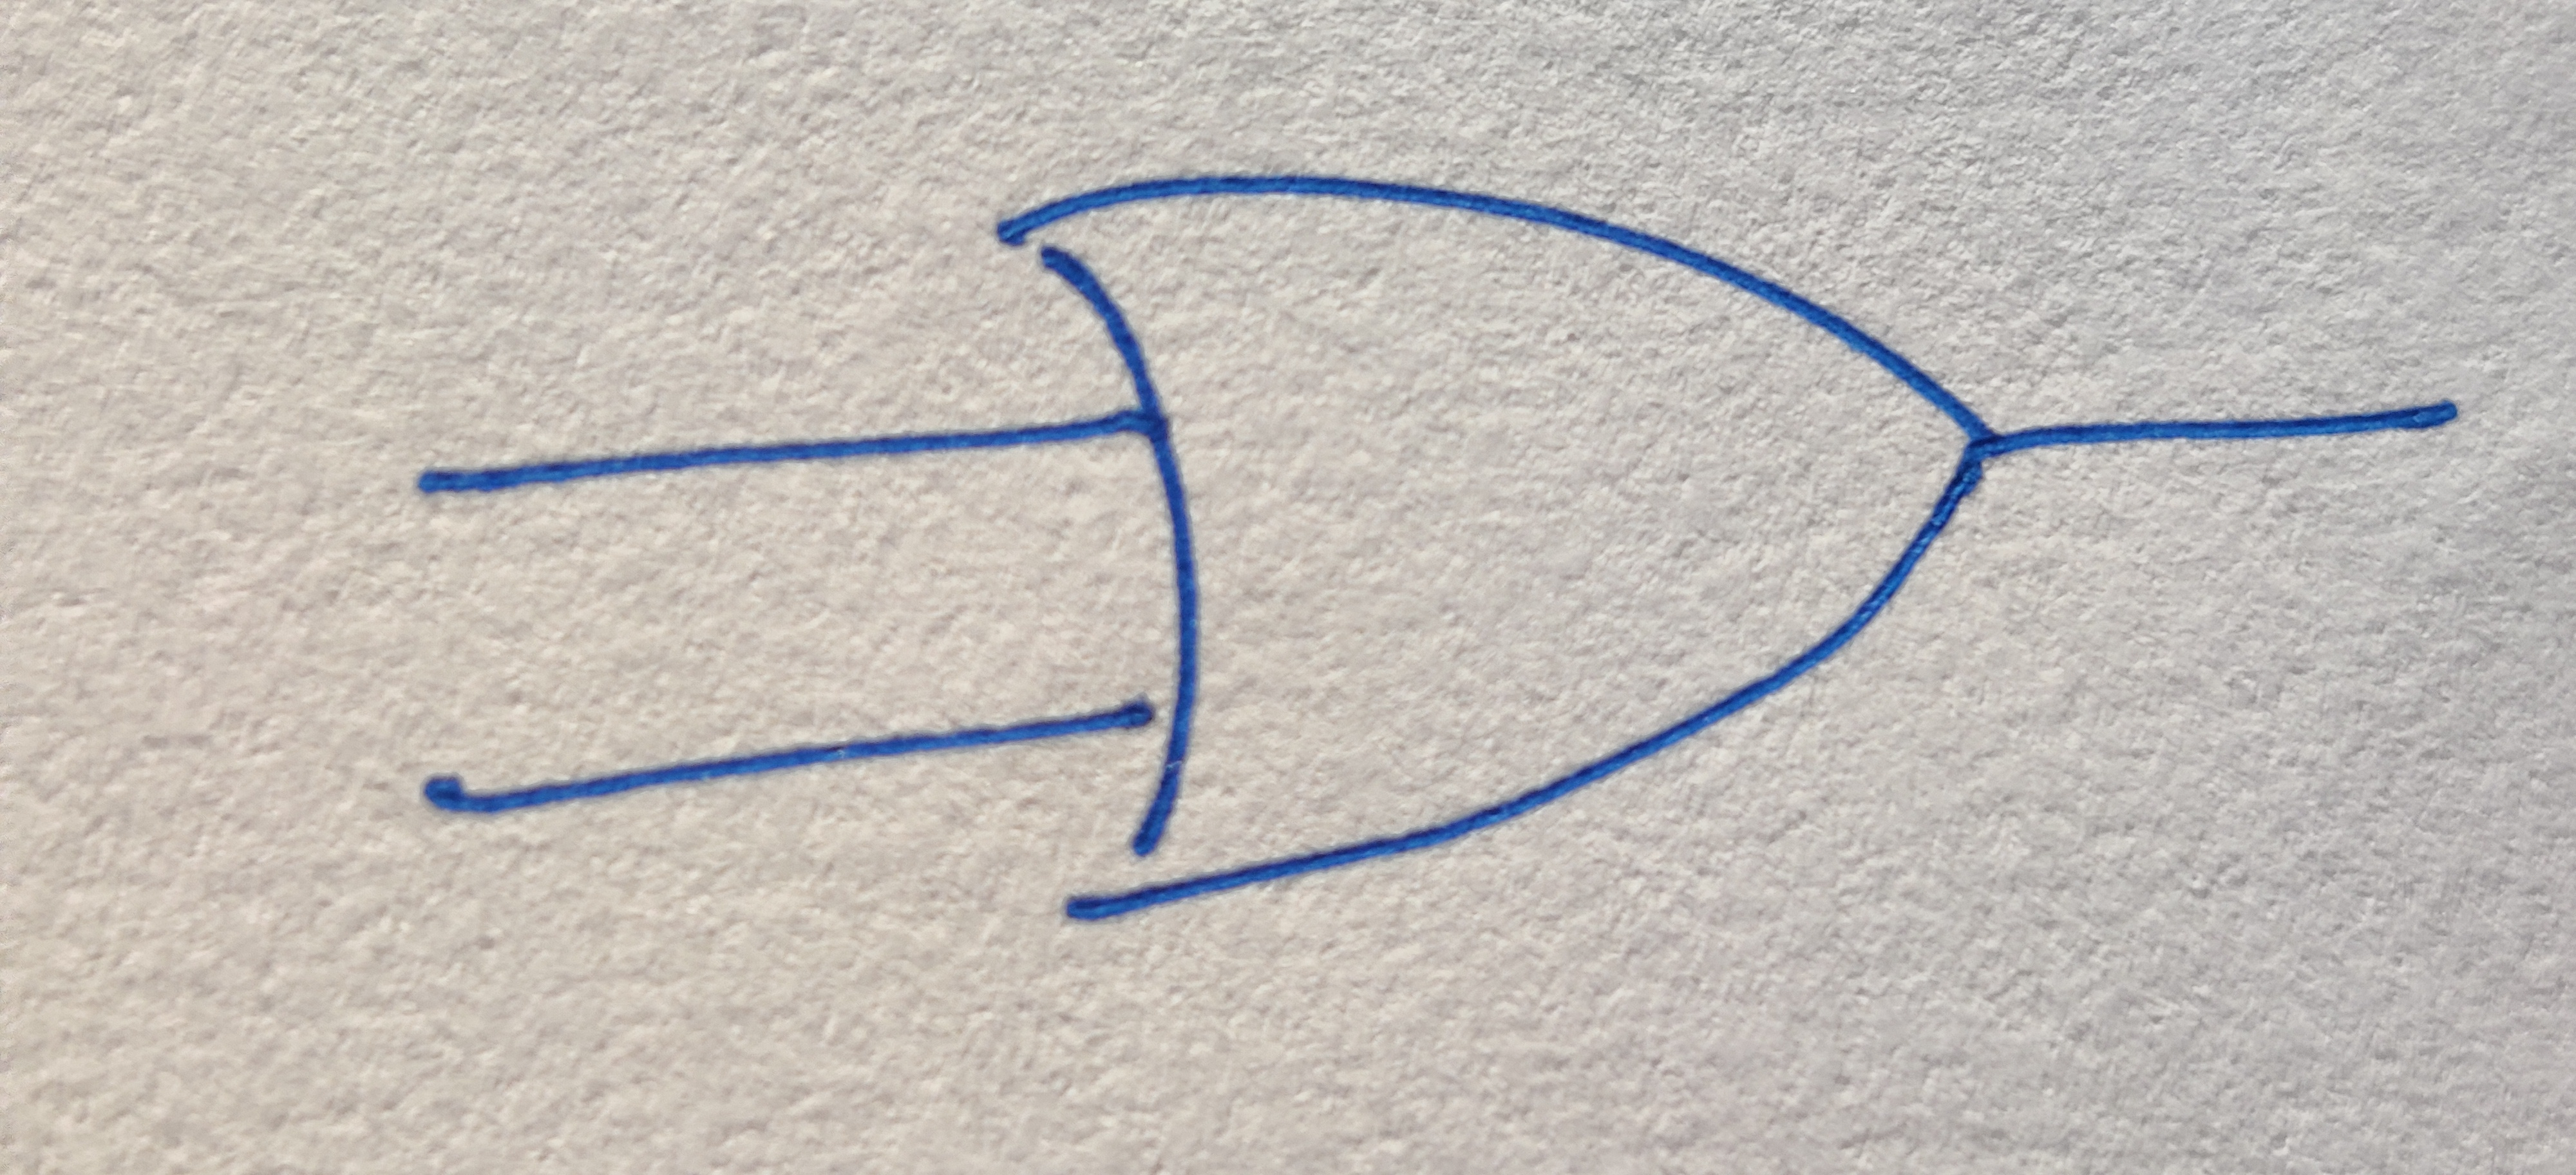or: (1005, 179, 1988, 917)
